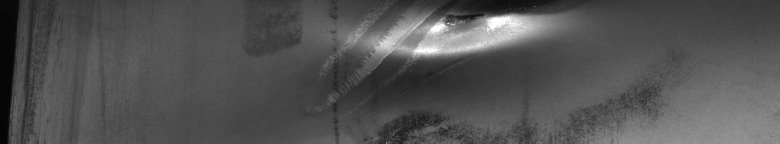ke: (320, 4, 644, 136)
